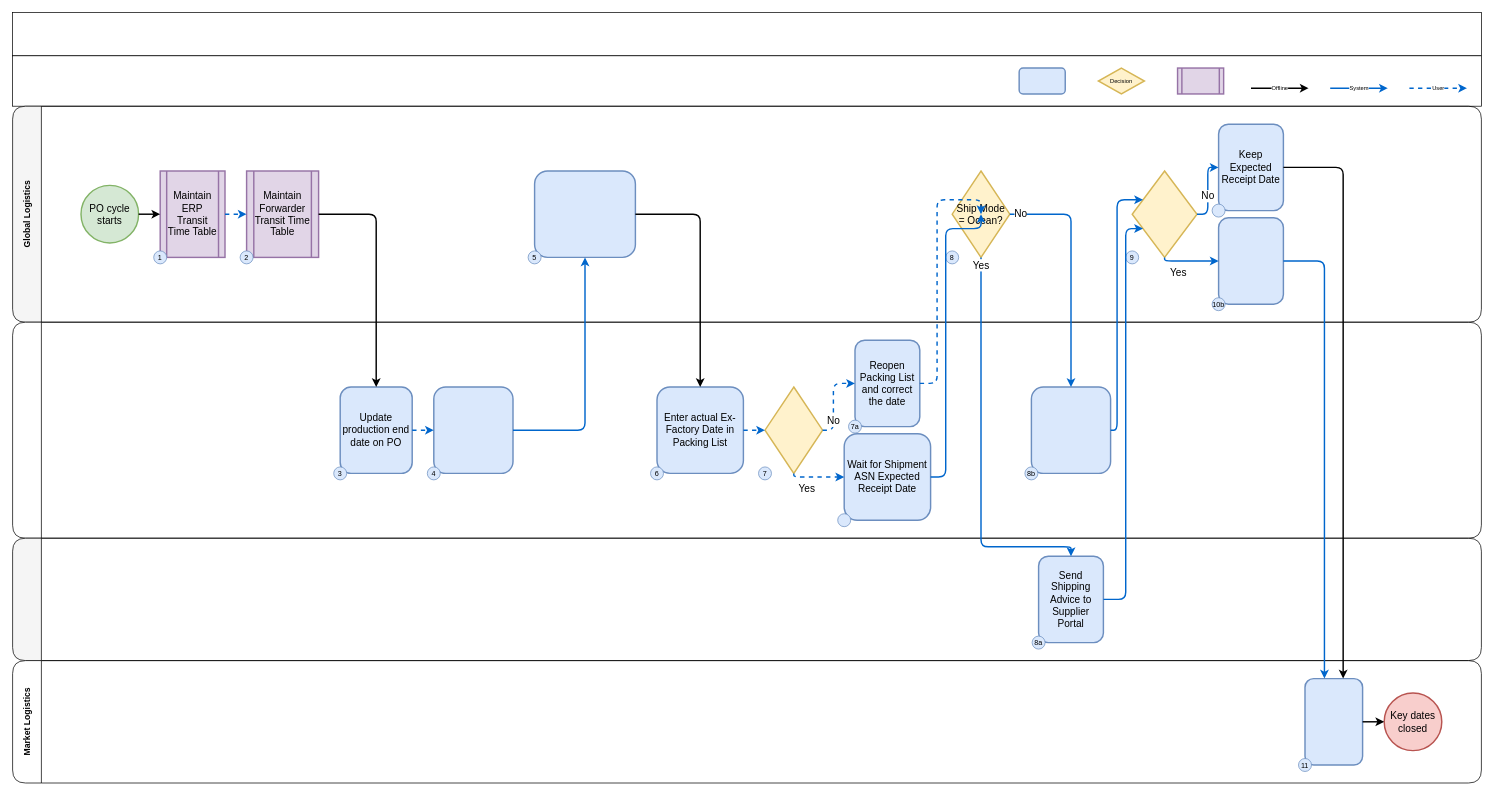
Some shapes in this 1494 by 796 pixel diagram are drawn without their labels. Each missing label, with the box of its shape:
10a: (1211, 203, 1225, 217)
7b: (837, 513, 851, 527)
Booking Agent (Forwarder): (12, 537, 1481, 661)
ERP auto-calculates Promised Date: (534, 170, 636, 258)
Flip Packing List to Shipment ASN using ETA: (1030, 386, 1111, 474)
Invoice status = Active?: (764, 386, 823, 474)
New date outside the tolerance window?: (1131, 170, 1197, 258)
Process: (1018, 67, 1066, 94)
Record Actual Receipt Date: (1304, 678, 1363, 765)
SOP-004 – Delivery Date Rules for Transit Time: (12, 12, 1481, 56)
Subprocess: (1176, 67, 1224, 94)
Update Expected Receipt Date: (1218, 217, 1284, 305)
Update Supplier Ex-Factory Date: (433, 386, 513, 474)
Vendor: (12, 321, 1481, 538)
